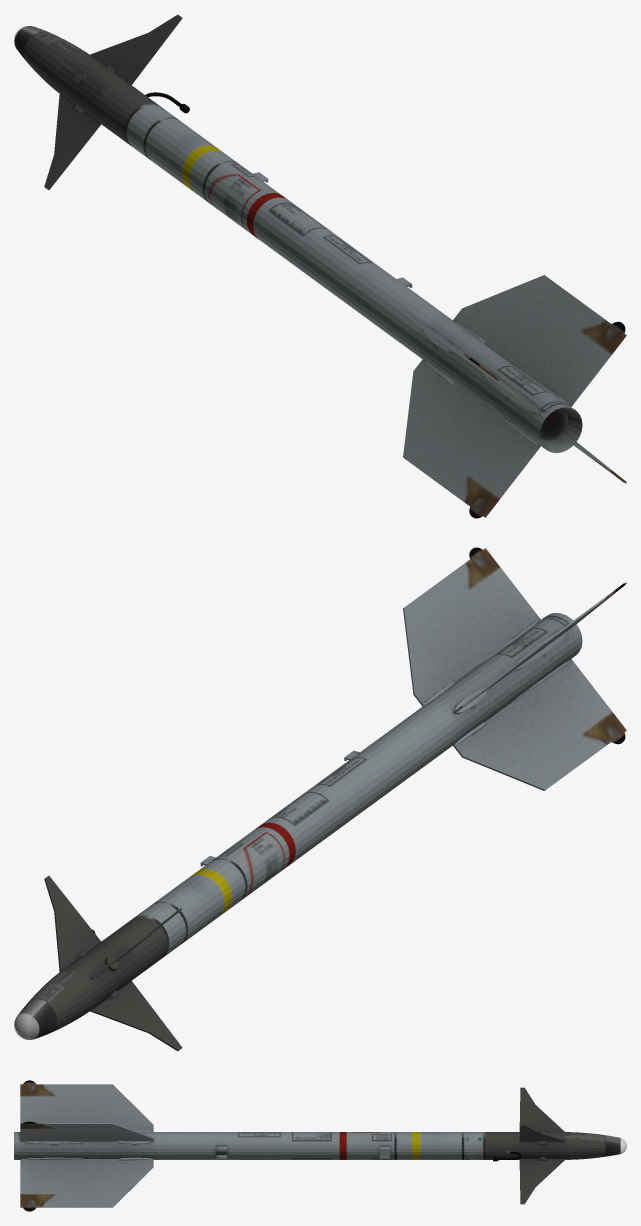
Rendered from aim9l.glb.
3 renders of one model, top to bottom at view 1: azimuth 30°, elevation 25°; view 2: azimuth 150°, elevation 25°; view 3: azimuth 270°, elevation 25°, orthographic. The views are drawn at different scales.
Visible parts, largest first — view 1: aim9l; view 2: aim9l; view 3: aim9l.
Part boxes in pixels (bbox=[...]): aim9l: bbox=[14, 14, 626, 518]; aim9l: bbox=[14, 547, 626, 1051]; aim9l: bbox=[14, 1080, 626, 1211].
Size of the model in its own units: 0.4676 by 0.4676 by 2.89.
Materials: 2 (1 with a texture image).
